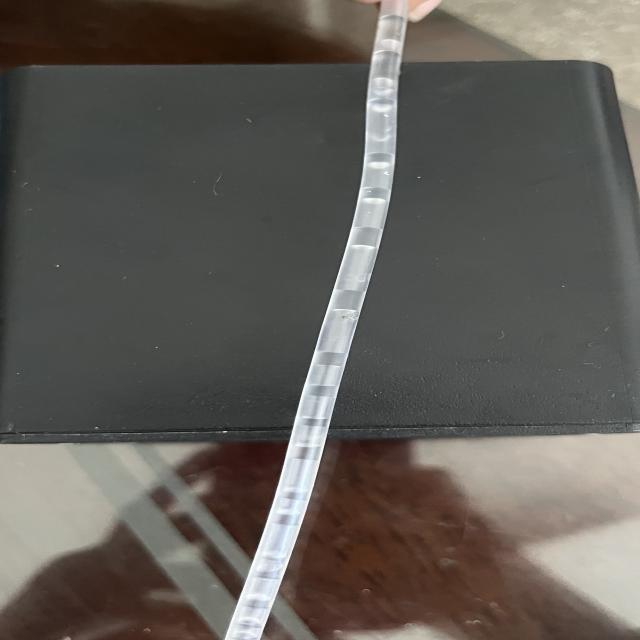bubble: (320, 240, 400, 294), (303, 311, 377, 357), (243, 516, 317, 558), (217, 564, 289, 600), (260, 459, 329, 496), (349, 194, 400, 232), (212, 600, 288, 625), (357, 153, 406, 189), (292, 398, 352, 420), (286, 369, 360, 386), (354, 124, 403, 144), (366, 74, 414, 94), (366, 40, 431, 54), (366, 96, 408, 116)
